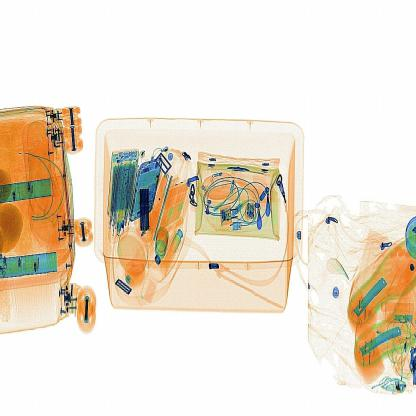scissors: (135, 179, 159, 244)
